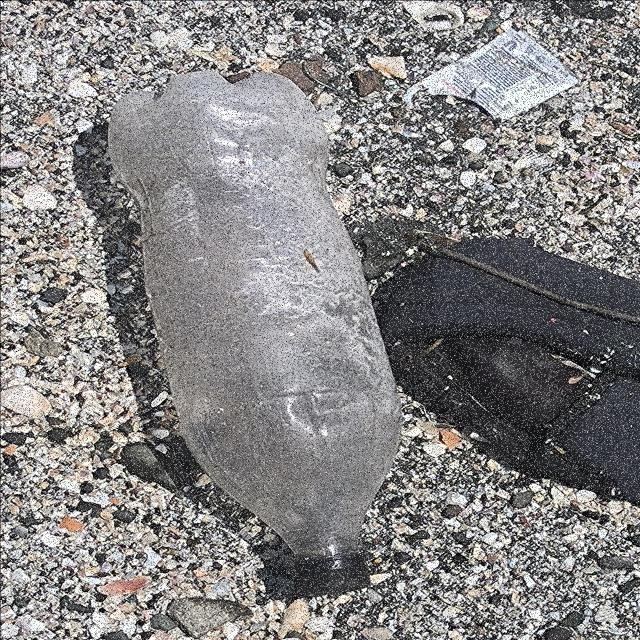plastic_waste: (104, 67, 407, 599)
